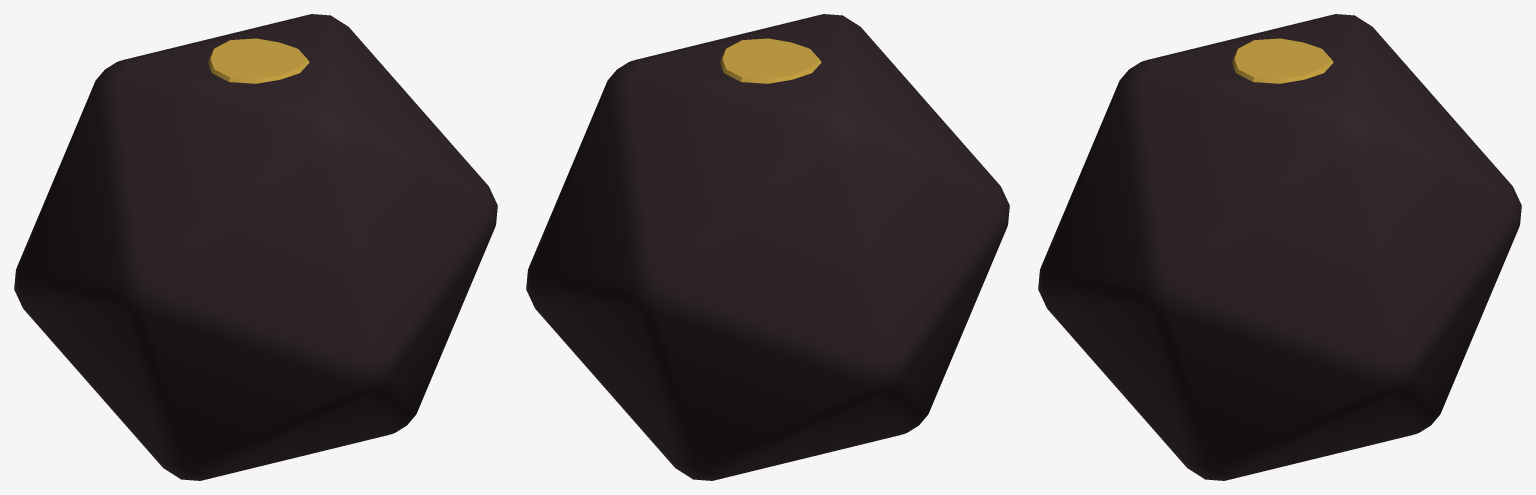
The model's file is verdict_d20.glb.
3 renders of one model, left to right at view 1: azimuth 30°, elevation 25°; view 2: azimuth 150°, elevation 25°; view 3: azimuth 270°, elevation 25°, orthographic.
Visible parts, largest first — view 1: VerdictD20; view 2: VerdictD20; view 3: VerdictD20.
Part boxes in pixels (box(x1,y1,x2,y2)): VerdictD20: box(14, 14, 497, 480); VerdictD20: box(526, 14, 1009, 480); VerdictD20: box(1038, 14, 1521, 480).
Bounding box in the file's own units: 0.0788 × 0.0754 × 0.0884.
